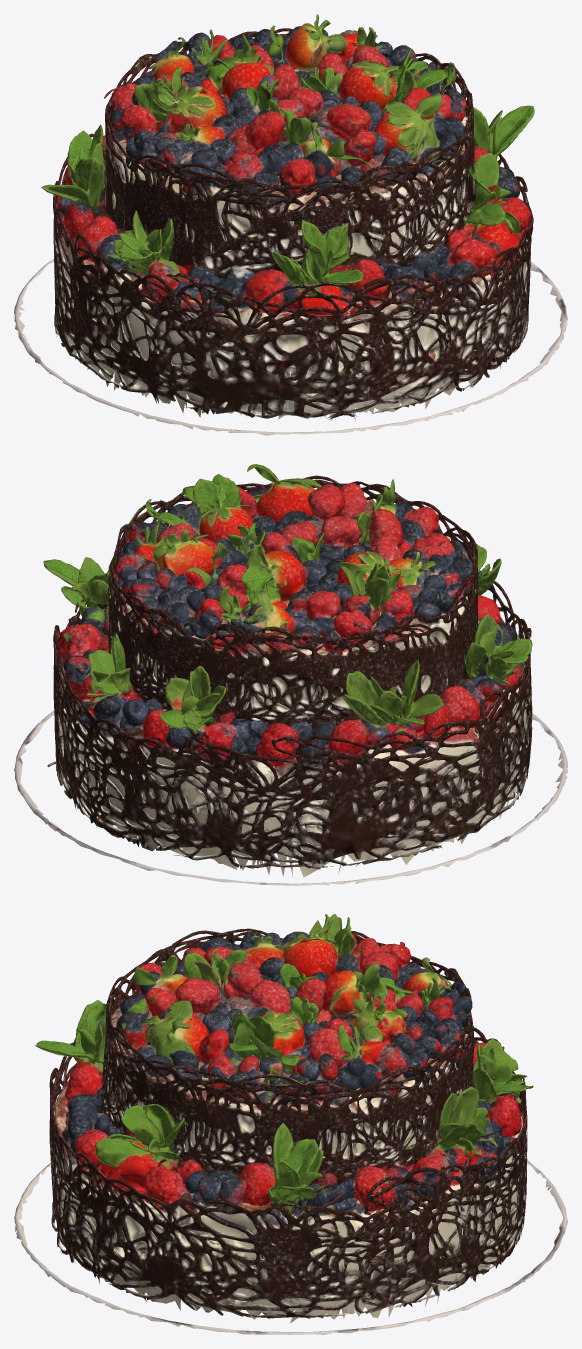
Rendered from cake-lite.glb.
The picture shows the model from 3 angles, top to bottom: view 1: azimuth 30°, elevation 25°; view 2: azimuth 150°, elevation 25°; view 3: azimuth 270°, elevation 25°; orthographic projection.
Bounding box in the file's own units: 1.9 × 1.01 × 1.89.
Materials: 1 (1 with a texture image).
